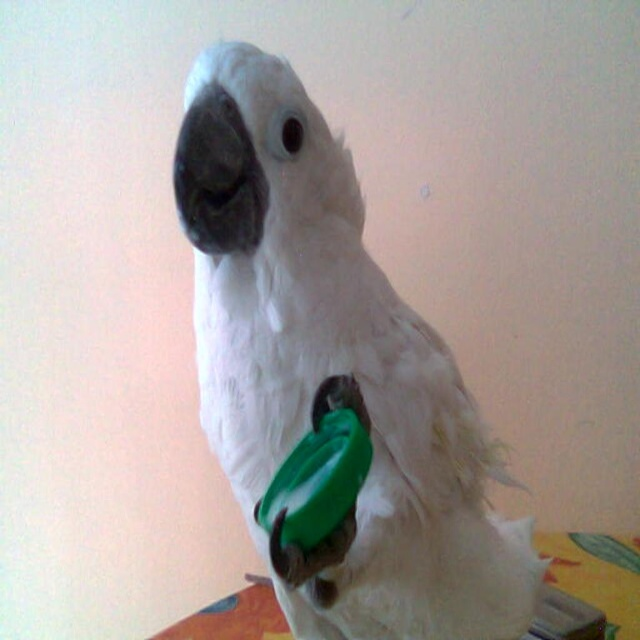Parrot: (172, 30, 555, 640)
